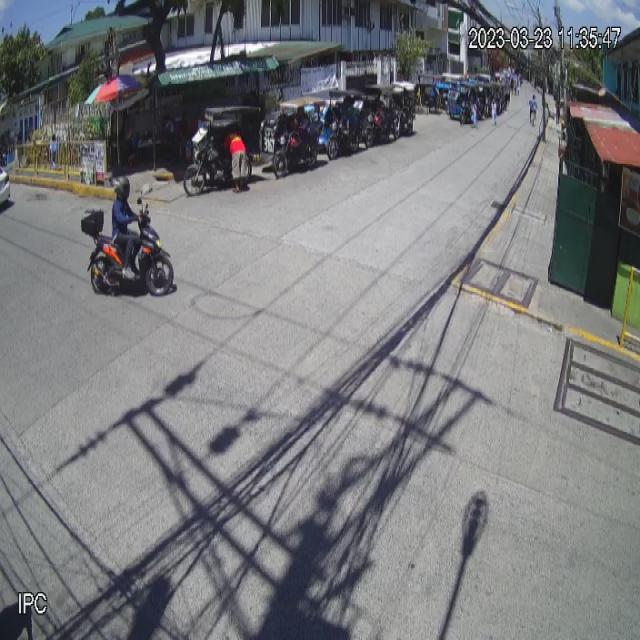Motorcycle: (81, 196, 174, 297)
